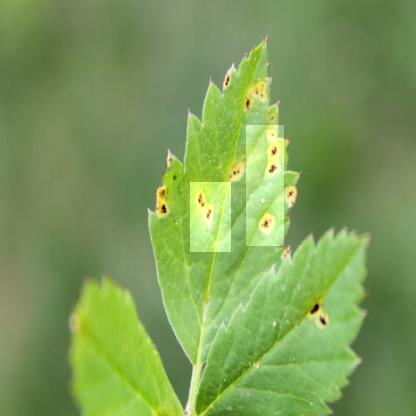black-spot: (247, 125, 284, 246), (190, 182, 231, 252)
